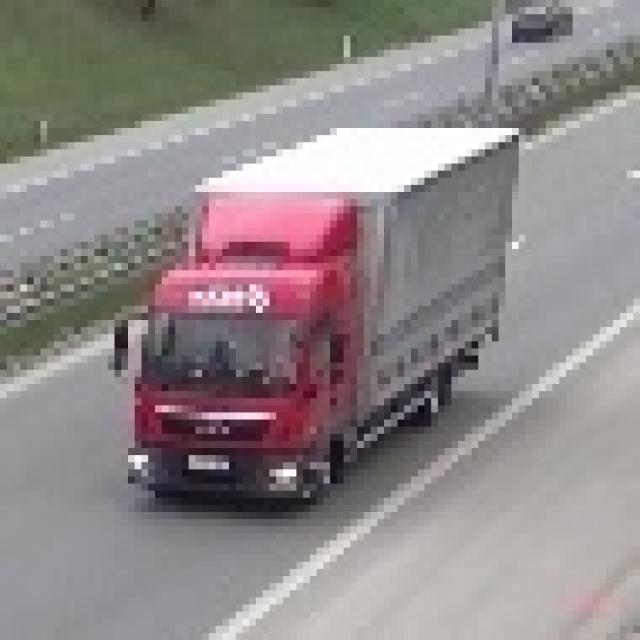truck: (101, 121, 519, 498)
